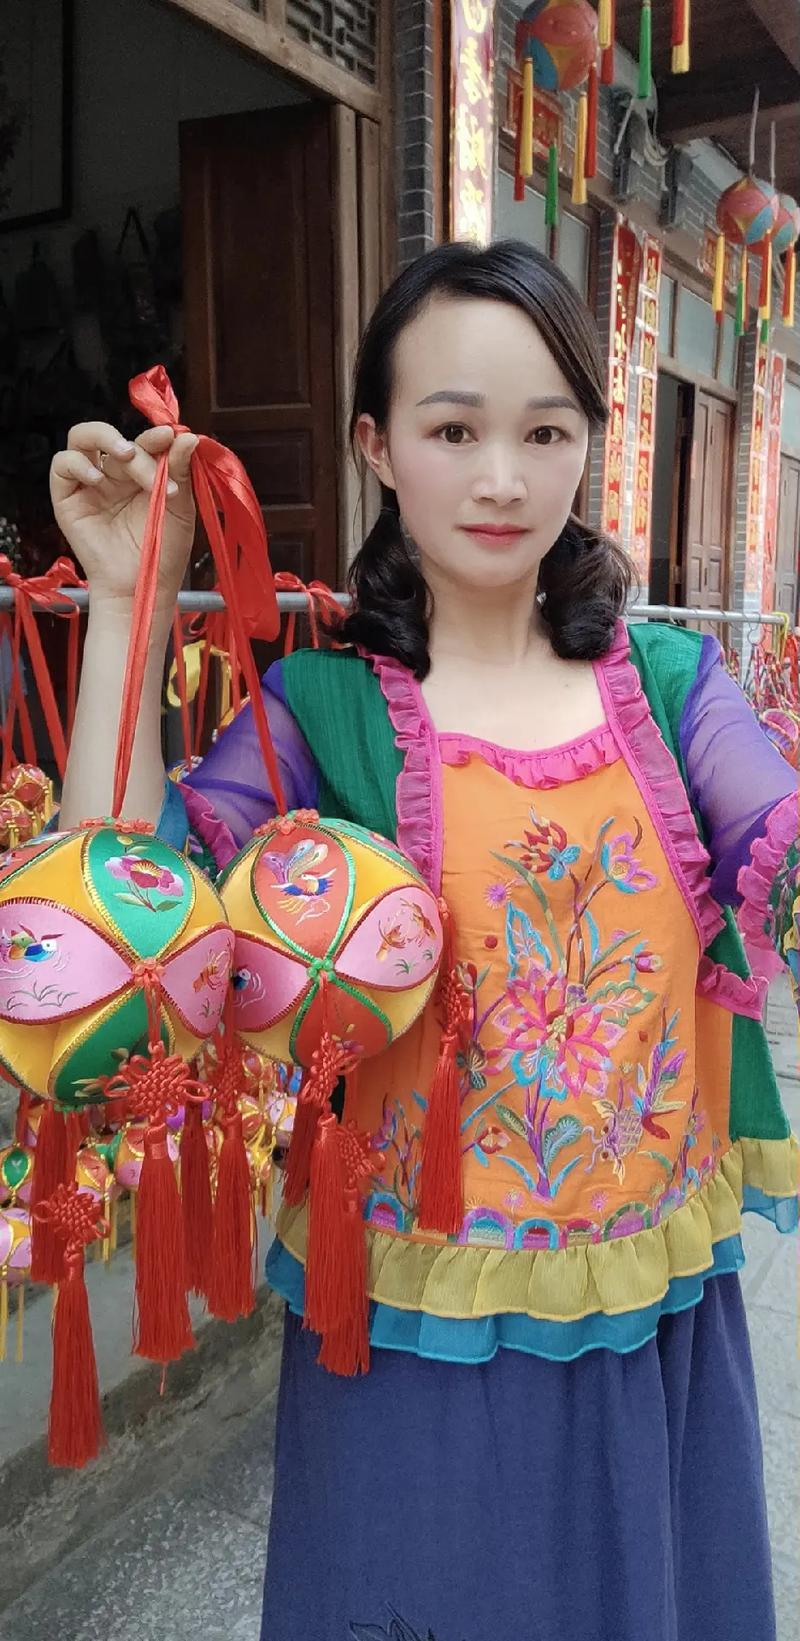xiuqiu: (19, 824, 237, 1139), (237, 806, 447, 1114)
